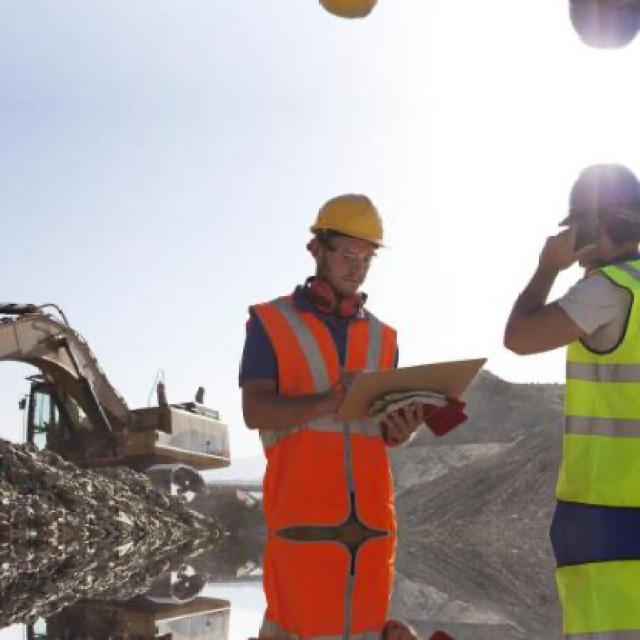con casco: (270, 176, 401, 279), (552, 157, 640, 239)
